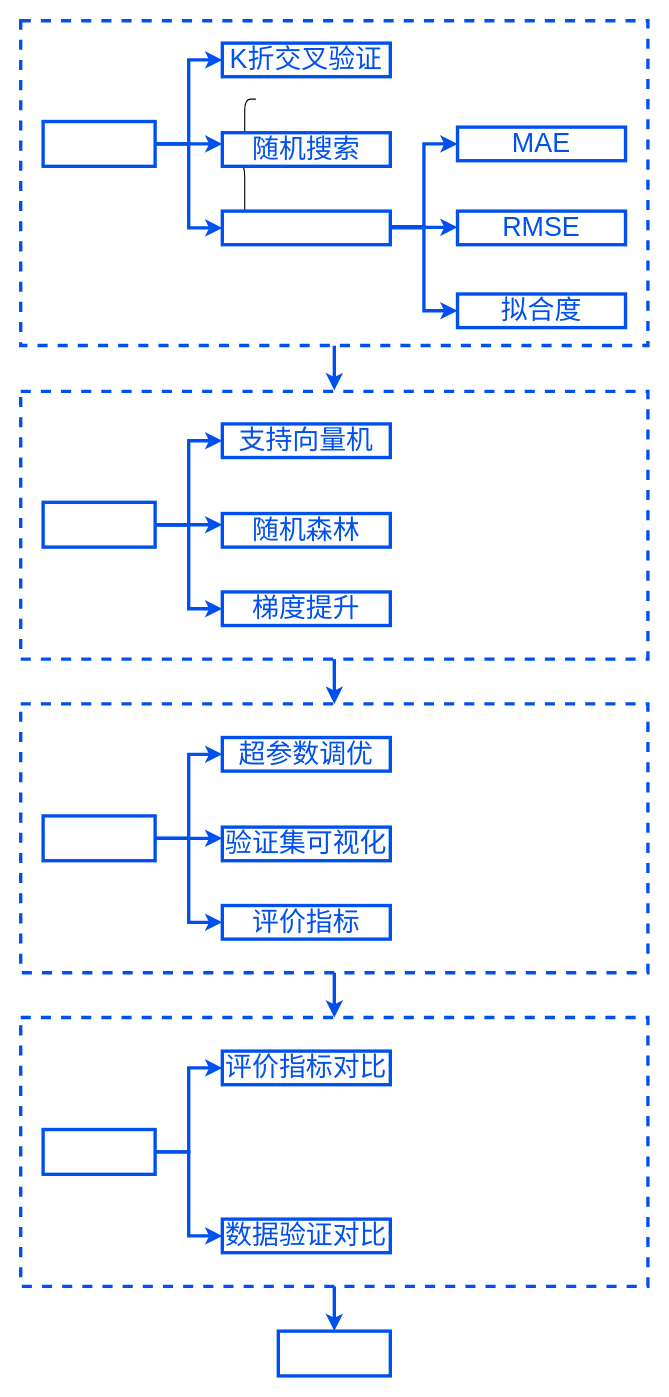
This 669x1397 diagram has some shape labels left out. Each missing label, with the centre of its shape:
"对比分析" goes at point (98, 1151).
"模型准备" goes at point (98, 143).
"模型建立" goes at point (98, 524).
"模型求解" goes at point (98, 838).
"确定模型" goes at point (333, 1353).
"评价标准" goes at point (305, 227).
